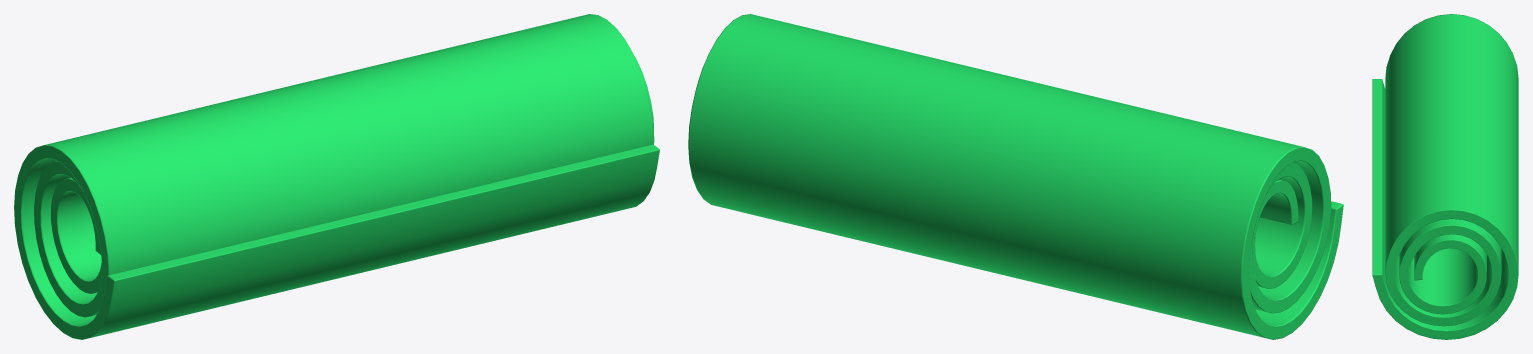
Rendered from yogamat.glb.
3 renders of one model, left to right at view 1: azimuth 30°, elevation 25°; view 2: azimuth 150°, elevation 25°; view 3: azimuth 270°, elevation 25°, orthographic. The views are drawn at different scales.
Parts seen in each view (by area): view 1: Object_2; view 2: Object_2; view 3: Object_2.
Boxes of the visible parts, x1,y1,x2,y2 form: Object_2: [14, 14, 659, 339]; Object_2: [688, 14, 1343, 339]; Object_2: [1372, 14, 1518, 339].
Size of the model in its own units: 11.13 by 3.43 by 3.44.
